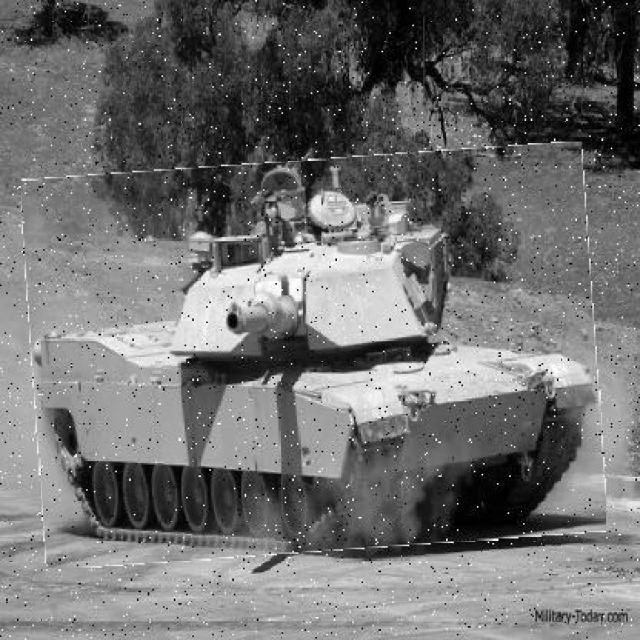Tank: (27, 152, 603, 561)
